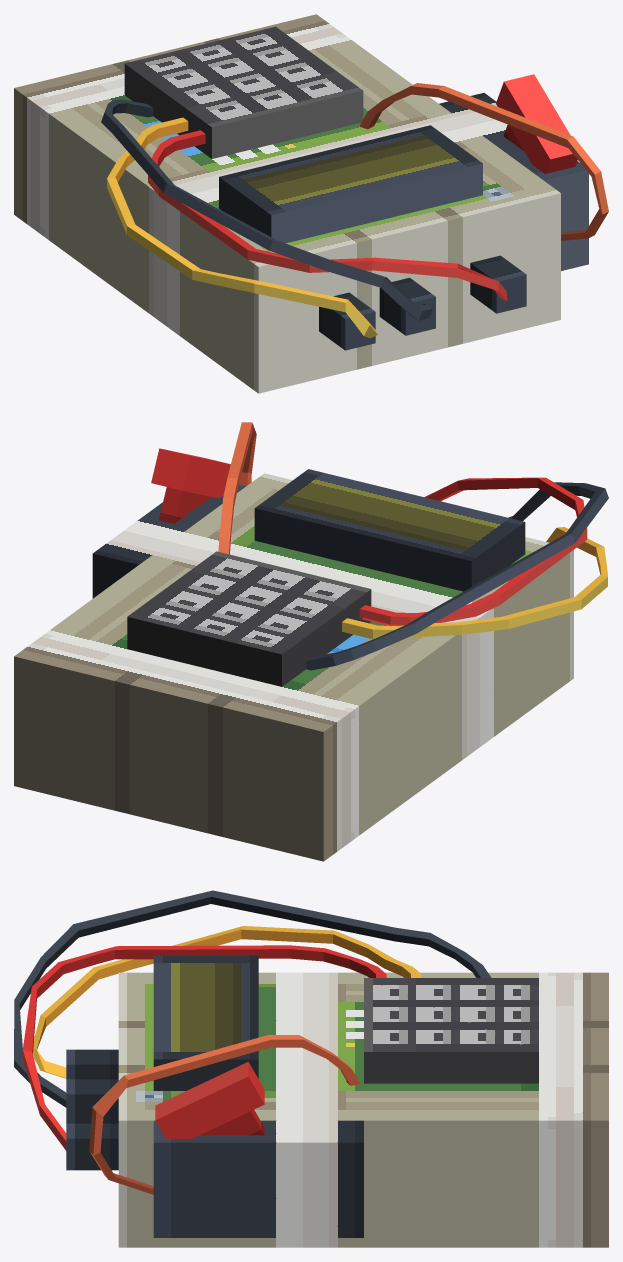
Rendered from c4-bomb.gltf.
3 views of the same model, one above another, from view 1: azimuth 30°, elevation 25°; view 2: azimuth 150°, elevation 25°; view 3: azimuth 270°, elevation 25° (orthographic). The views are drawn at different scales.
Visible parts, largest first — view 1: cube (×12); view 2: cube (×10); view 3: cube (×13).
Boxes of the visible parts, x1=… form: cube (×12): x1=14, y1=14, x2=608, y2=393; cube (×10): x1=14, y1=422, x2=608, y2=861; cube (×13): x1=14, y1=890, x2=608, y2=1247.
Size of the model in its own units: 0.8621 by 0.3733 by 1.06.
3 materials, 3 textured.
